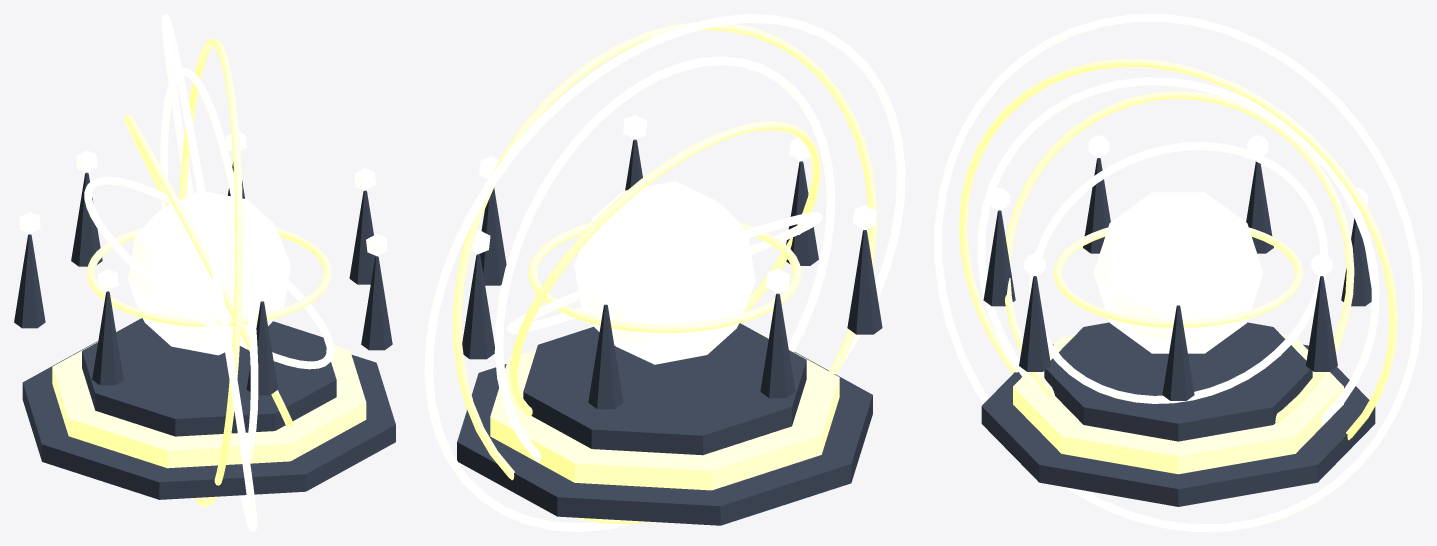
Rendered from gpu-blender-v42.glb.
3 renders of one model, left to right at view 1: azimuth 30°, elevation 25°; view 2: azimuth 150°, elevation 25°; view 3: azimuth 270°, elevation 25°, orthographic. The views are drawn at different scales.
Parts seen in each view (by area): view 1: Cylinder.002, Cylinder, SovereignCore_digital-asset-forge, Cylinder.001, Torus.005, Torus.004, Torus.003, Torus.001, Torus, Torus.002, Cone.003, Cone.006 (+4 smaller); view 2: Cylinder.002, SovereignCore_digital-asset-forge, Cylinder, Cylinder.001, Torus.005, Torus.003, Torus.004, Torus.002, Torus.001, Torus, Cone.002, Cone.003 (+4 smaller); view 3: SovereignCore_digital-asset-forge, Cylinder.002, Cylinder, Cylinder.001, Torus.005, Torus.004, Torus.003, Torus.002, Torus.001, Torus, Cone, Cone.001 (+5 smaller).
Part boxes in pixels (bbox=[...]): Cylinder.002: bbox=[82, 318, 336, 436]; Cylinder: bbox=[22, 341, 395, 499]; SovereignCore_digital-asset-forge: bbox=[127, 191, 290, 355]; Cylinder.001: bbox=[52, 325, 366, 468]; Torus.005: bbox=[161, 14, 257, 531]; Torus.004: bbox=[179, 38, 242, 507]; Torus.003: bbox=[160, 68, 258, 459]; Torus.001: bbox=[84, 176, 334, 369]; Torus: bbox=[87, 227, 331, 326]; Torus.002: bbox=[124, 114, 293, 426]; Cone.003: bbox=[14, 234, 45, 328]; Cone.006: bbox=[361, 256, 392, 350]; Cylinder.002: bbox=[523, 323, 806, 455]; SovereignCore_digital-asset-forge: bbox=[574, 181, 755, 364]; Cylinder: bbox=[457, 351, 872, 525]; Cylinder.001: bbox=[490, 330, 839, 490]; Torus.005: bbox=[424, 14, 905, 531]; Torus.003: bbox=[494, 56, 835, 461]; Torus.004: bbox=[453, 22, 876, 524]; Torus.002: bbox=[509, 121, 820, 416]; Torus.001: bbox=[507, 212, 822, 333]; Torus: bbox=[528, 222, 801, 333]; Cone.002: bbox=[588, 304, 623, 409]; Cone.003: bbox=[760, 293, 795, 398]; SovereignCore_digital-asset-forge: bbox=[1093, 192, 1263, 353]; Cylinder.002: bbox=[1044, 322, 1312, 441]; Cylinder: bbox=[981, 344, 1375, 506]; Cylinder.001: bbox=[1013, 334, 1343, 474]; Torus.005: bbox=[934, 14, 1422, 531]; Torus.004: bbox=[959, 59, 1397, 440]; Torus.003: bbox=[977, 77, 1379, 424]; Torus.002: bbox=[1005, 91, 1354, 423]; Torus.001: bbox=[1029, 142, 1327, 403]; Torus: bbox=[1053, 227, 1303, 327]; Cone: bbox=[1162, 305, 1194, 400]; Cone.001: bbox=[1306, 276, 1337, 371].
Bounding box in the file's own units: 4.41 × 5.93 × 5.46.
